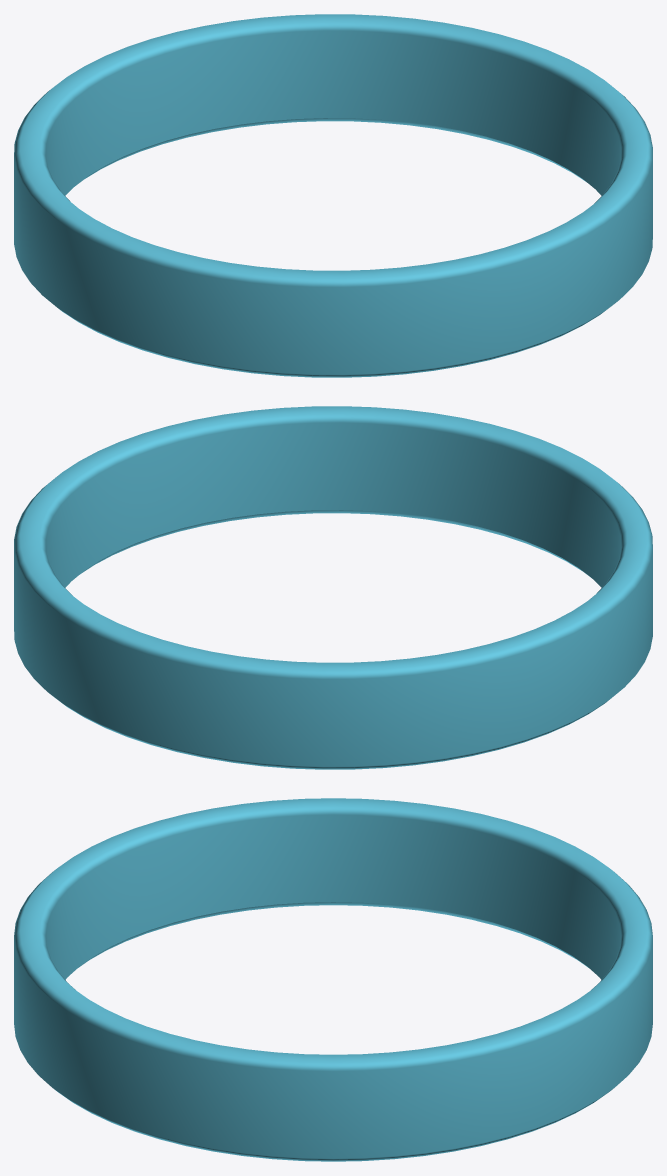
3 renders of one model, top to bottom at view 1: azimuth 30°, elevation 25°; view 2: azimuth 150°, elevation 25°; view 3: azimuth 270°, elevation 25°, orthographic.
Parts seen in each view (by area): view 1: seal_body; view 2: seal_body; view 3: seal_body.
Boxes of the visible parts, x1,y1,x2,y2 form: seal_body: (14, 14, 652, 377); seal_body: (14, 406, 652, 769); seal_body: (14, 798, 652, 1161).
Bounding box in the file's own units: 0.0635 × 0.0108 × 0.0635.
